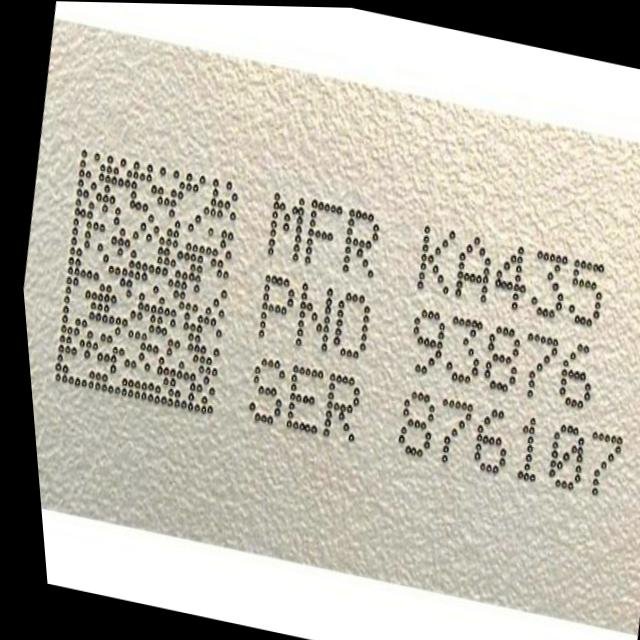datamatrix: (26, 140, 259, 423)
